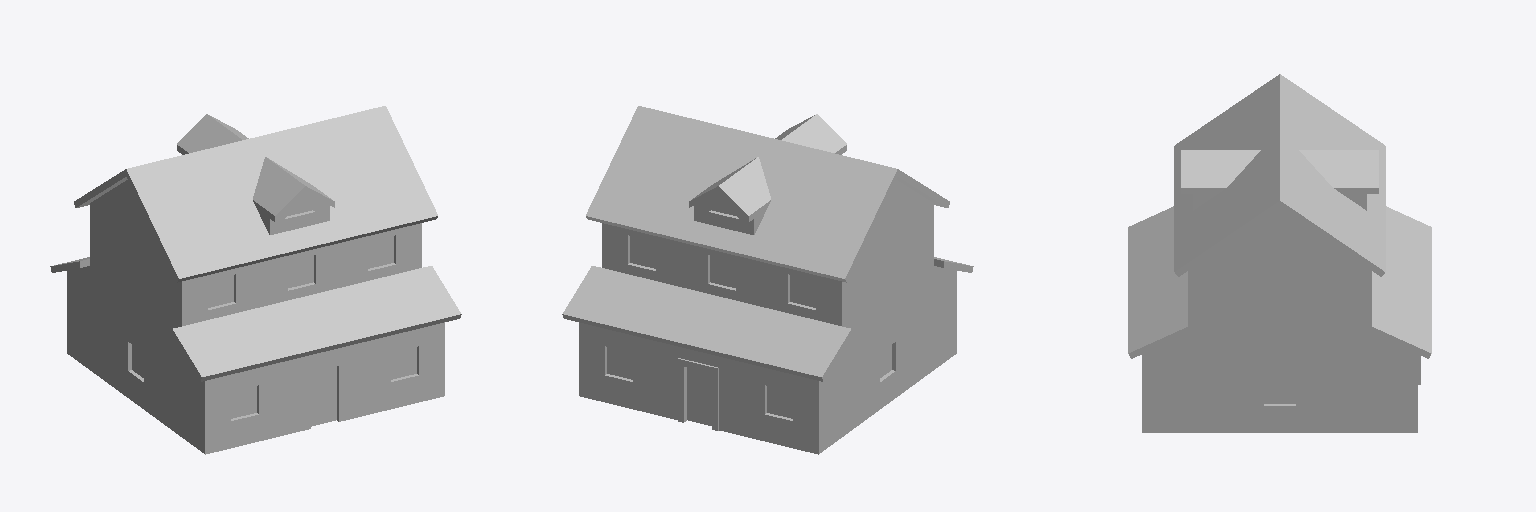
File: house_type06.obj
3 views of the same model, side by side, from view 1: azimuth 30°, elevation 25°; view 2: azimuth 150°, elevation 25°; view 3: azimuth 270°, elevation 25° (orthographic).
Visible parts, largest first — view 1: house_type06; view 2: house_type06; view 3: house_type06.
Part boxes in pixels (left/top/right/bottom): house_type06: left=50, top=106, right=461, bottom=454; house_type06: left=562, top=106, right=973, bottom=454; house_type06: left=1128, top=74, right=1431, bottom=432.
Bounding box in the file's own units: 1.3 × 1.14 × 1.32.